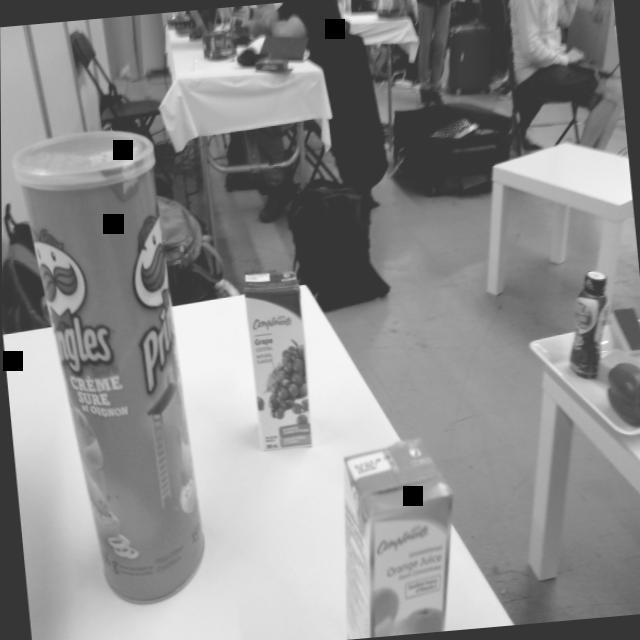chocolate_drink: (558, 265, 619, 389)
grape_juice: (234, 259, 321, 459)
orange_juice: (322, 429, 468, 640)
paprika: (603, 358, 640, 432)
pringles: (4, 121, 214, 617)
